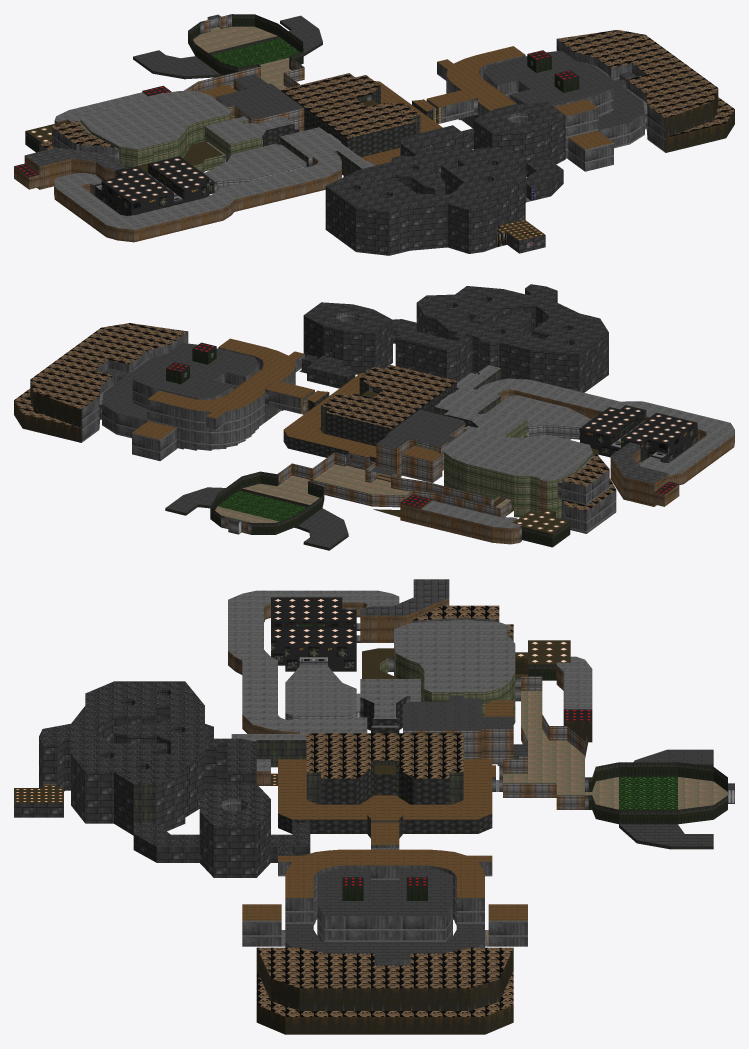
File: E1M5 - Phobos Lab.glb
The picture shows the model from 3 angles, top to bottom: view 1: azimuth 30°, elevation 25°; view 2: azimuth 150°, elevation 25°; view 3: azimuth 270°, elevation 25°; orthographic projection. The views are drawn at different scales.
Visible parts, largest first — view 1: E1M5; view 2: E1M5; view 3: E1M5.
Part boxes in pixels (<box>): E1M5: <box>14,14,734,255</box>; E1M5: <box>14,284,734,550</box>; E1M5: <box>14,579,734,1034</box>.
Size of the model in its own units: 3968 by 464 by 3232.
Materials: 64 (64 with a texture image).
